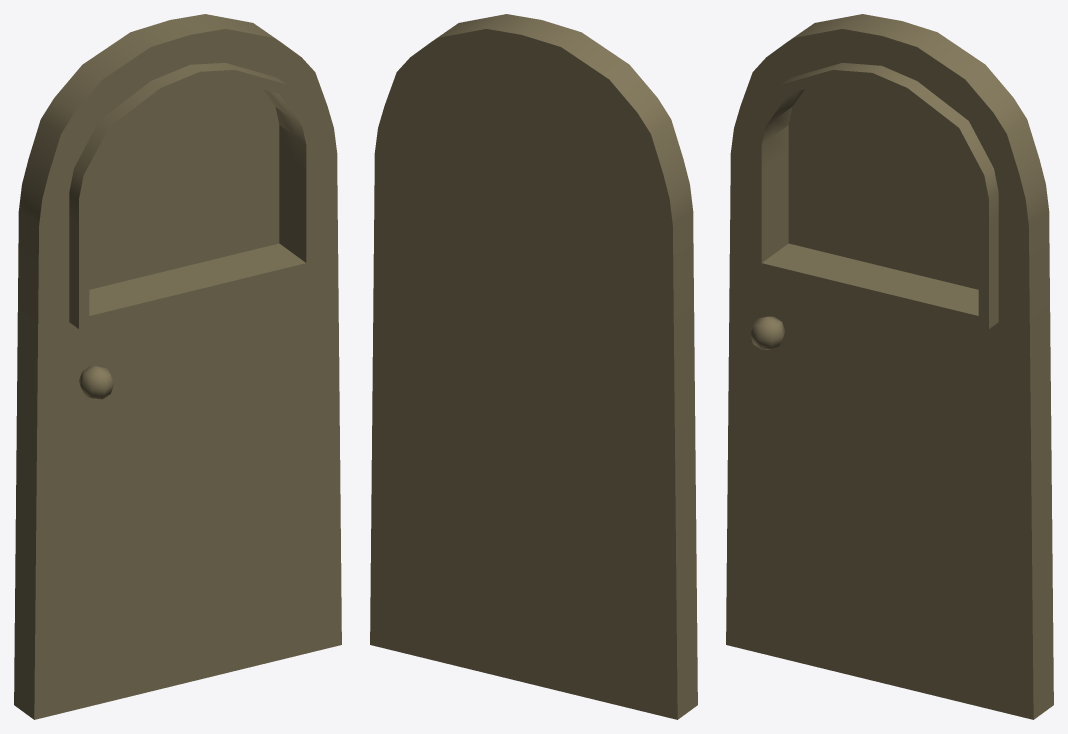
The model's file is DoorC_1.fbx.
3 renders of one model, left to right at view 1: azimuth 30°, elevation 25°; view 2: azimuth 150°, elevation 25°; view 3: azimuth 330°, elevation 25°, orthographic.
Parts seen in each view (by area): view 1: DoorC_1; view 2: DoorC_1; view 3: DoorC_1.
Part boxes in pixels (x1,y1,x2,y2): DoorC_1: (14, 14, 341, 719); DoorC_1: (370, 14, 697, 719); DoorC_1: (726, 14, 1053, 719).
Bounding box in the file's own units: 92.91 × 187 × 20.73.
